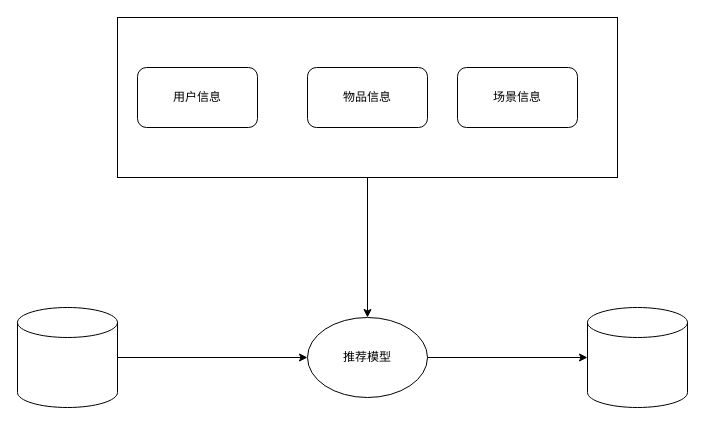
Image size: 705x425. Some labels were removed from this diagram. Each missing label, with the centre of its shape:
"候选物品集" goes at pixel 67 357.
"推荐物品列表" goes at pixel 637 357.
